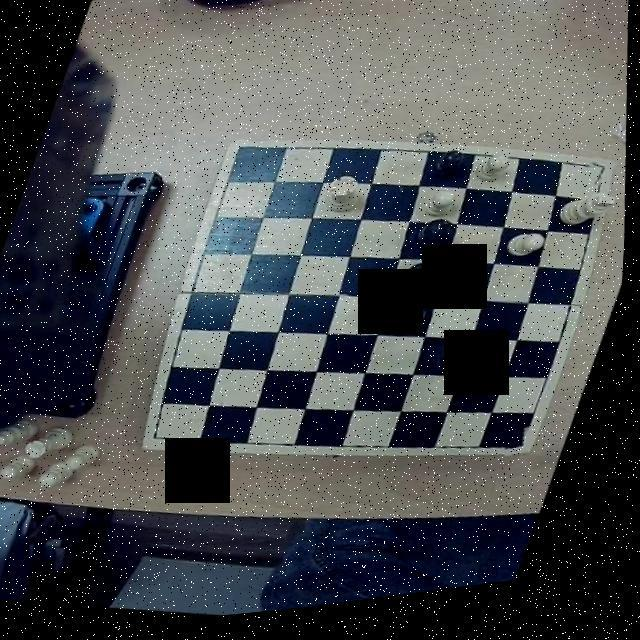chess-table-corners: (146, 414, 186, 454), (502, 432, 543, 470), (226, 142, 264, 180), (582, 166, 620, 200)
